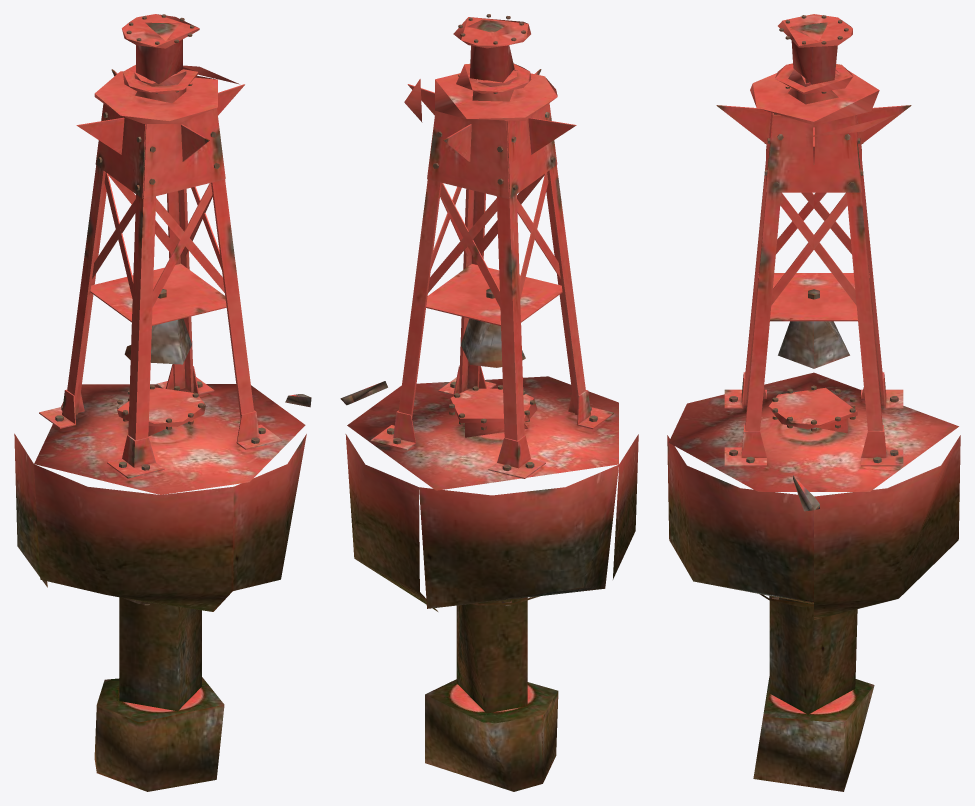
File: boje.glb
3 views of the same model, side by side, from view 1: azimuth 30°, elevation 25°; view 2: azimuth 150°, elevation 25°; view 3: azimuth 270°, elevation 25° (orthographic).
Visible parts, largest first — view 1: ocean_buoy; view 2: ocean_buoy; view 3: ocean_buoy.
Boxes of the visible parts, <box> form: ocean_buoy: <box>14,14,311,791</box>; ocean_buoy: <box>340,14,638,791</box>; ocean_buoy: <box>667,14,960,791</box>.
Bounding box in the file's own units: 1.04 × 2.65 × 0.9523.
1 material, 1 textured.
